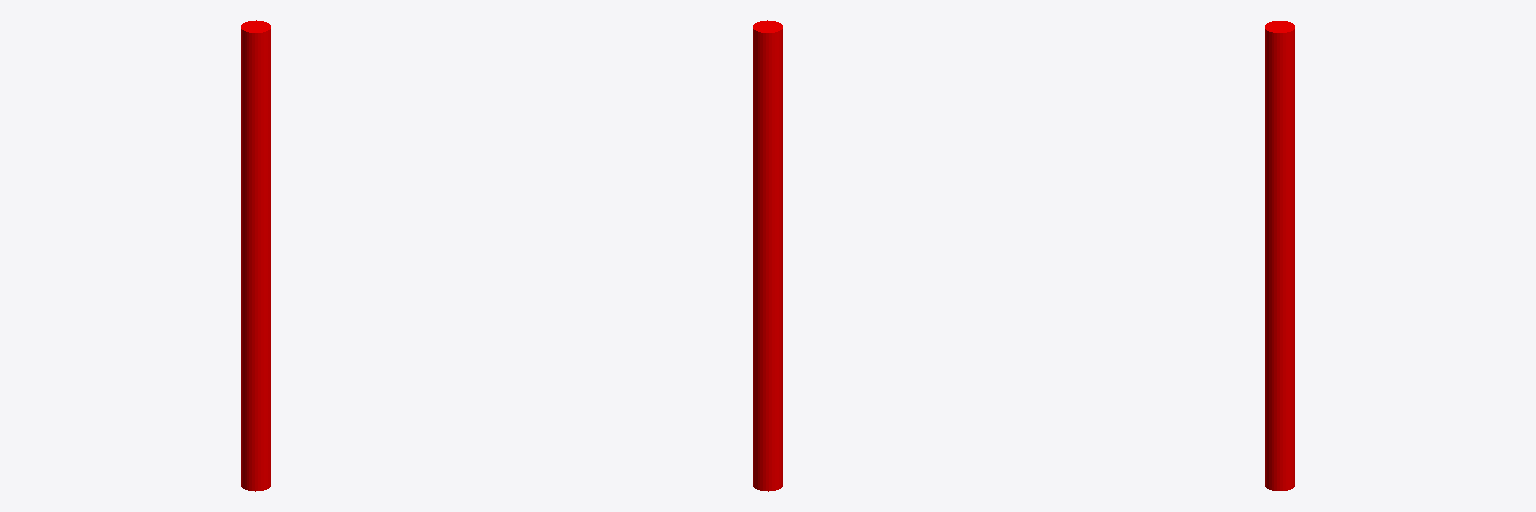
URDF robot description (robot):
<?xml version="0.0" ?>
<robot name="">
	<link name="link0">
		<inertial>
			<origin rpy="0.00000 -0.00000 0.00000" xyz="0.00000 0.00000 0.00000"/>
			<mass value="0.00393"/>
			<inertia ixx="0.00000" ixy="0" ixz="0" iyy="0.00000" iyz="0" izz="0.00000"/>
		</inertial>
		<visual>
			<origin rpy="0.00000 -0.00000 0.00000" xyz="0.00000 0.00000 0.00000"/>
			<geometry>
				<cylinder length="0.05000" radius="0.00150"/>
			</geometry>
			<material name="mat_-1_0">
				<color rgba="1.00000 0.00000 0.00000 1.00000" />
			</material>
		</visual>
		<collision>
			<origin rpy="0.00000 -0.00000 0.00000" xyz="0.00000 0.00000 0.00000"/>
			<geometry>
				<cylinder length="0.05000" radius="0.00150"/>
			</geometry>
		</collision>
	</link>
</robot>

--- Render facts (derived) ---
3 views of the same robot in one strip: view 1: azimuth 30°, elevation 25°; view 2: azimuth 150°, elevation 25°; view 3: azimuth 270°, elevation 25° (orthographic).
Model robot with 1 links and 0 joints (none), rooted at link0, posed all joints at 0.
Links seen in each view (by area): view 1: link0; view 2: link0; view 3: link0.
Link boxes in pixels (box(x1,y1,x2,y2)): link0: box(241, 20, 270, 491); link0: box(753, 20, 782, 491); link0: box(1265, 21, 1294, 490).
Bounding box of the posed robot: 0.003 × 0.003 × 0.05 m (x, y, z).
Geometry: primitives only (box / cylinder / sphere), no mesh files.